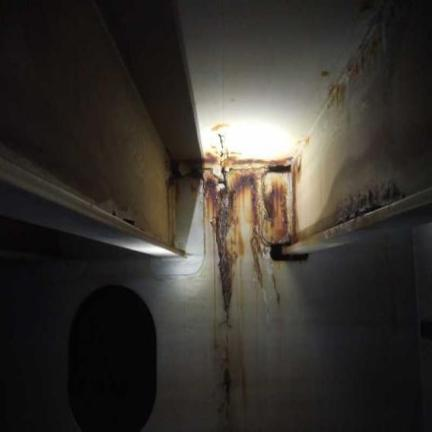karat: (195, 167, 289, 316)
